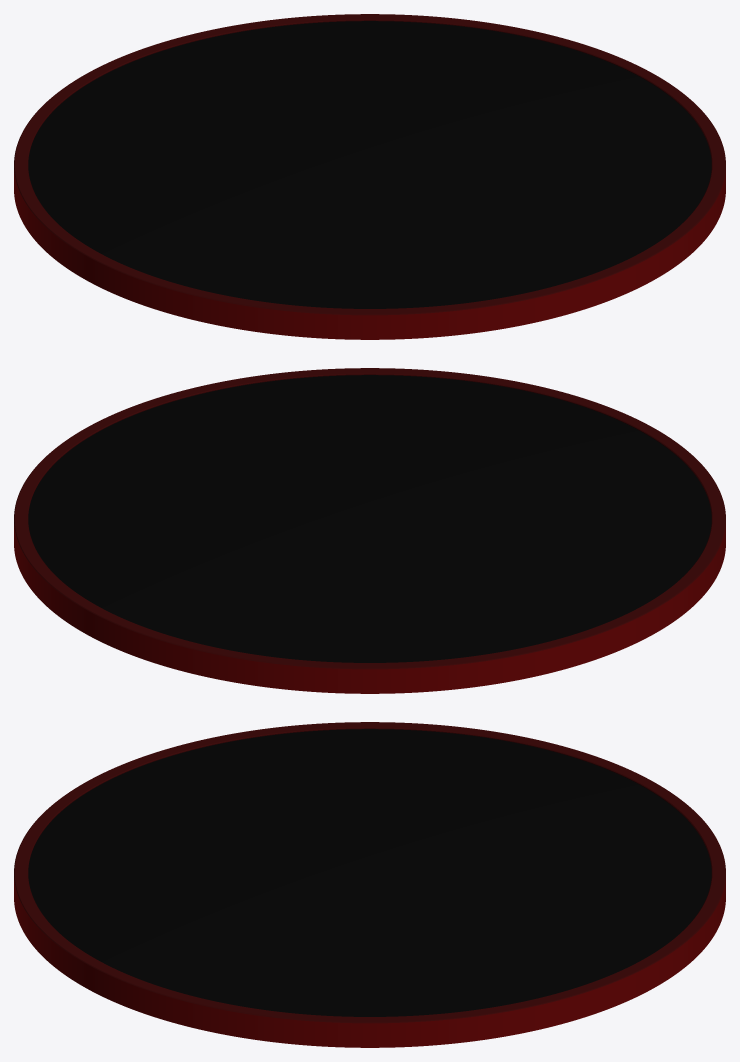
Rendered from BronzeMirror.fbx.
The picture shows the model from 3 angles, top to bottom: view 1: azimuth 30°, elevation 25°; view 2: azimuth 150°, elevation 25°; view 3: azimuth 270°, elevation 25°; orthographic projection.
Visible parts, largest first — view 1: BronzeMirror_LOD0; view 2: BronzeMirror_LOD0; view 3: BronzeMirror_LOD0.
Part boxes in pixels (bbox=[...]): BronzeMirror_LOD0: bbox=[14, 14, 725, 339]; BronzeMirror_LOD0: bbox=[14, 368, 725, 693]; BronzeMirror_LOD0: bbox=[14, 722, 725, 1047].
Size of what is drawn, in the model's own units: 1 by 0.08 by 1.
